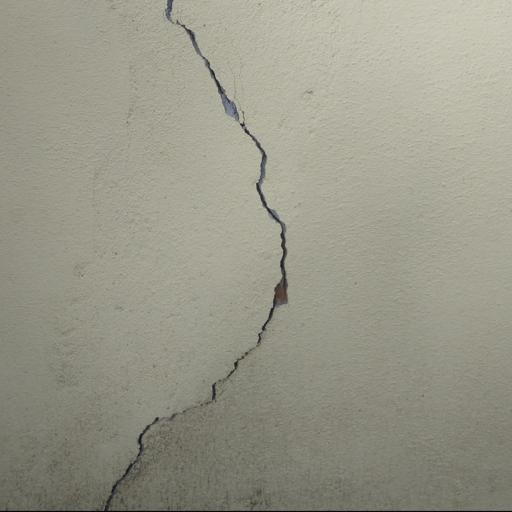major_crack: (96, 0, 299, 512)
